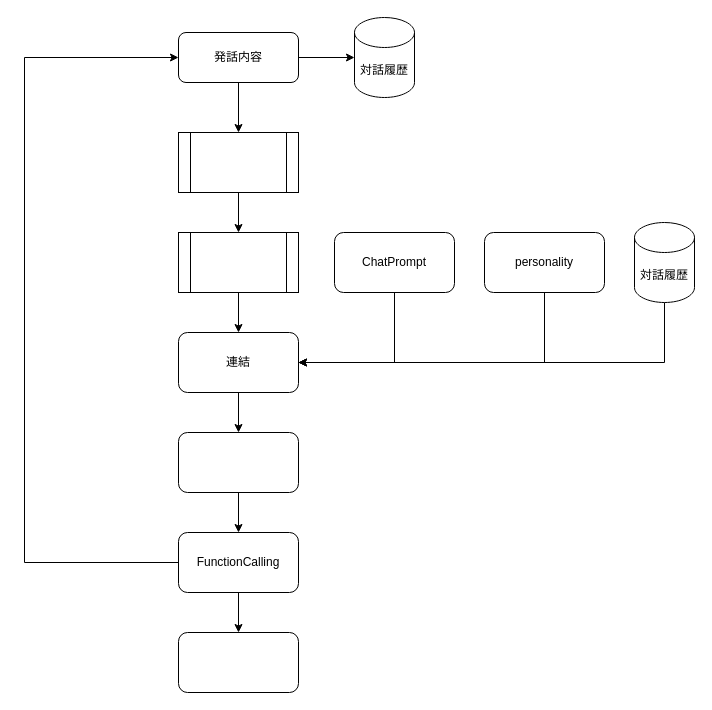
Some shapes in this 712 by 710 pixel diagram are drawn without their labels. The shapes that lost their labels are listed below. From the top down, each one's centre as x and y in pixels, then its label:
At pixel 238 162: "音声合成".
At pixel 238 262: "音声認識".
At pixel 238 462: "LLM".
At pixel 238 662: "待機モード移行".
